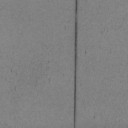surface scratch: (73, 0, 78, 126)
